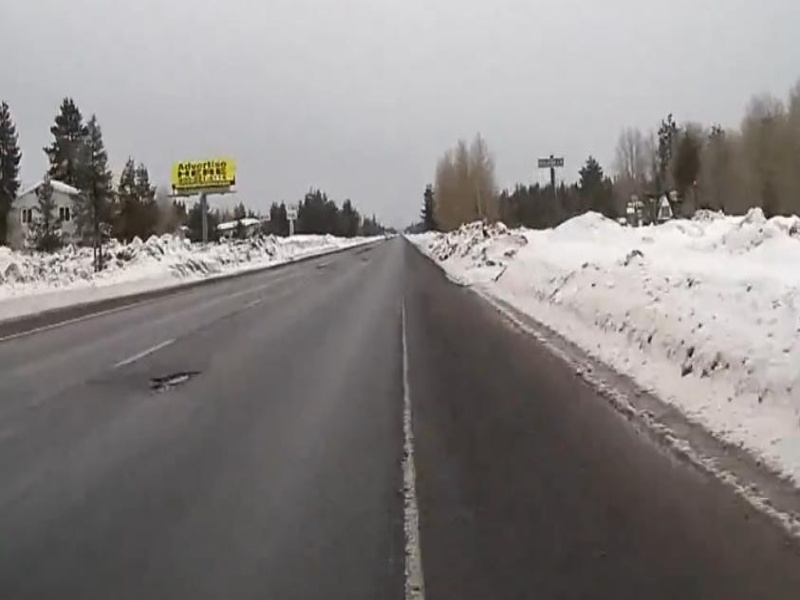pothole: (144, 370, 199, 396)
